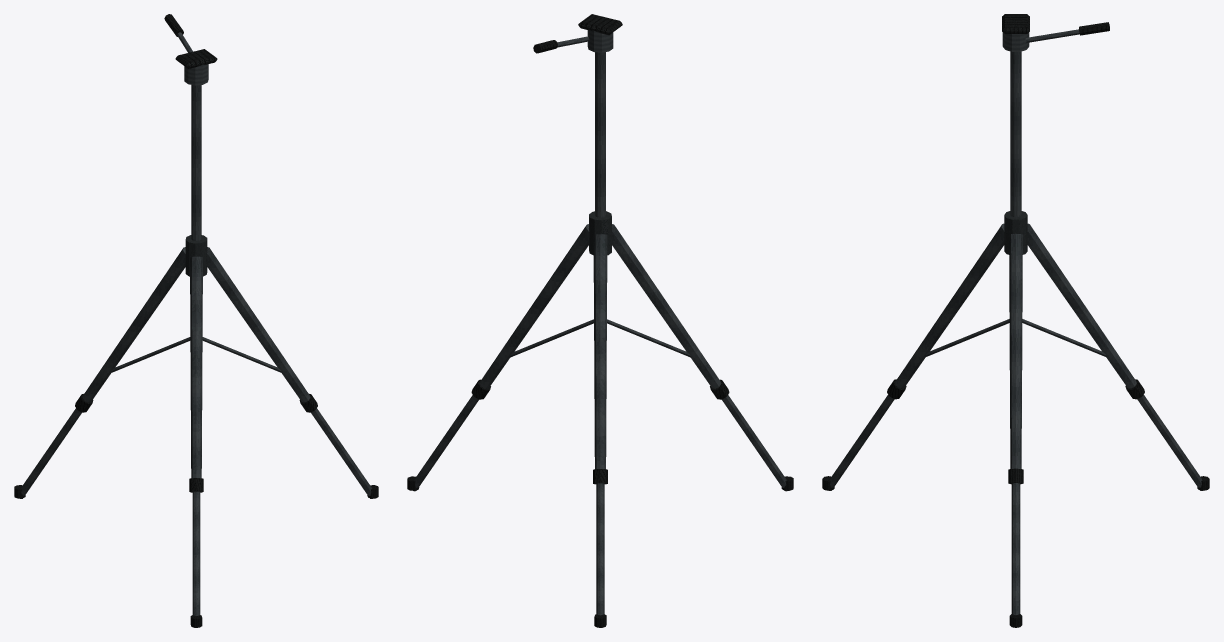
File: blender_tripod_2.glb
3 renders of one model, left to right at view 1: azimuth 30°, elevation 25°; view 2: azimuth 150°, elevation 25°; view 3: azimuth 270°, elevation 25°, orthographic. The views are drawn at different scales.
Visible parts, largest first — view 1: blender_tripod_2; view 2: blender_tripod_2; view 3: blender_tripod_2.
Boxes of the visible parts, x1=… form: blender_tripod_2: x1=14, y1=14, x2=378, y2=627; blender_tripod_2: x1=407, y1=14, x2=793, y2=627; blender_tripod_2: x1=822, y1=14, x2=1209, y2=627.
Size of the model in its own units: 0.4854 by 0.829 by 0.5577.
3 materials, 3 textured.
